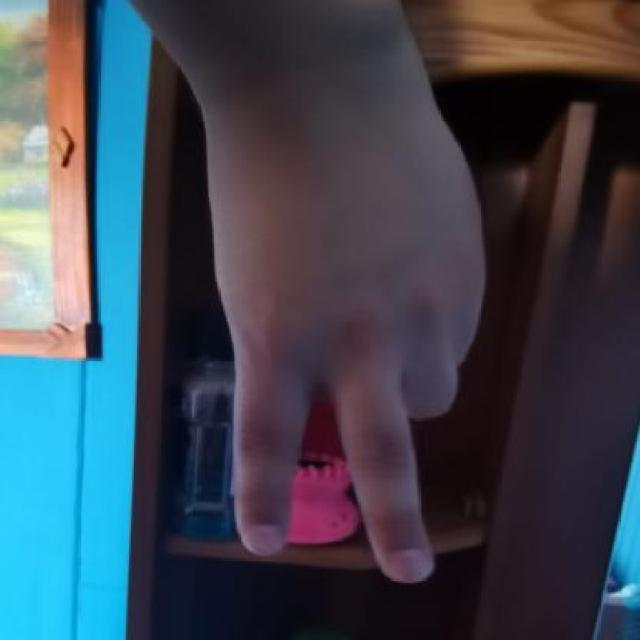N: (166, 118, 534, 612)
